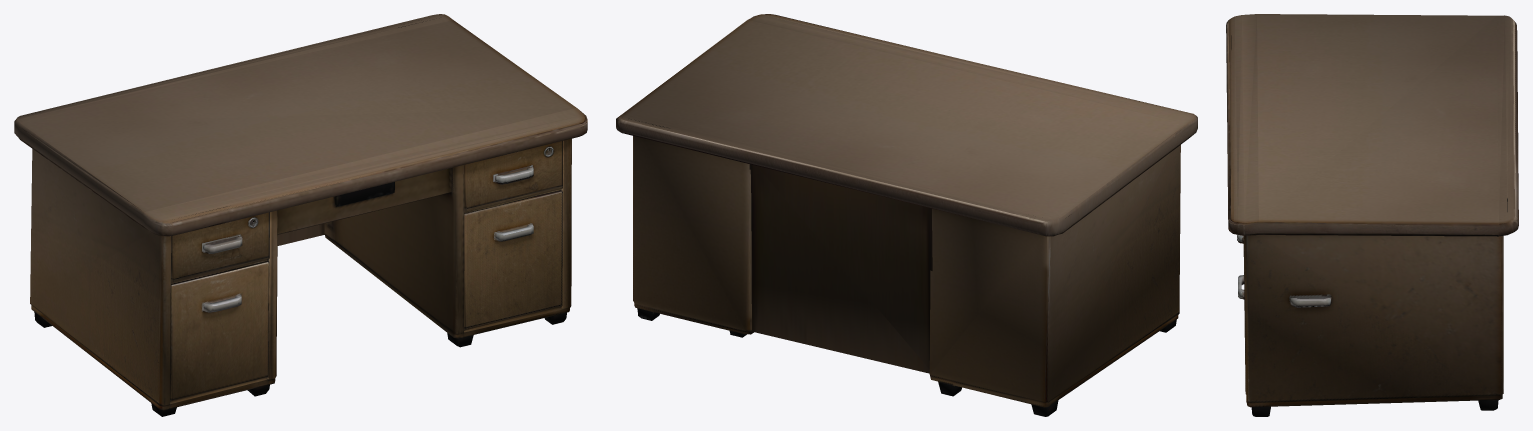
The model's file is ENV_BossDesk_v001.fbx.
3 views of the same model, side by side, from view 1: azimuth 30°, elevation 25°; view 2: azimuth 150°, elevation 25°; view 3: azimuth 270°, elevation 25° (orthographic). The views are drawn at different scales.
Visible parts, largest first — view 1: tripo_node_1c67ef94-e862-41b0-8bcd-a08537cc6fde; view 2: tripo_node_1c67ef94-e862-41b0-8bcd-a08537cc6fde; view 3: tripo_node_1c67ef94-e862-41b0-8bcd-a08537cc6fde.
Part boxes in pixels (x1=…): tripo_node_1c67ef94-e862-41b0-8bcd-a08537cc6fde: x1=14, y1=14, x2=587, y2=416; tripo_node_1c67ef94-e862-41b0-8bcd-a08537cc6fde: x1=616, y1=14, x2=1197, y2=416; tripo_node_1c67ef94-e862-41b0-8bcd-a08537cc6fde: x1=1226, y1=14, x2=1518, y2=416.
Size of the model in its own units: 413 by 190 by 247.
1 material, 1 textured.
